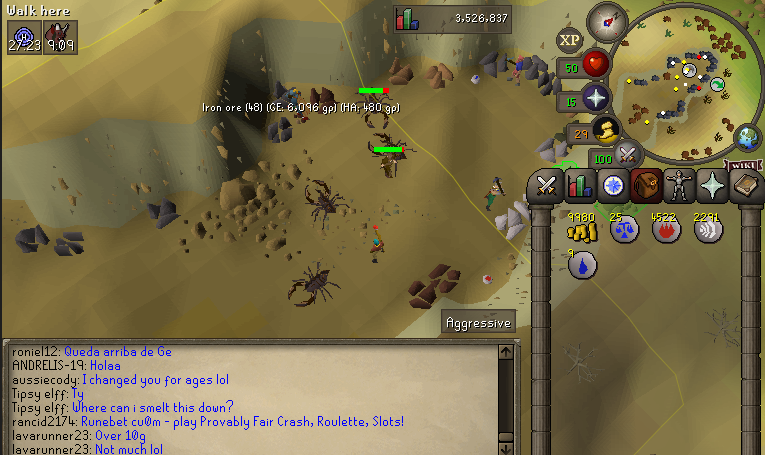depleted: (147, 196, 181, 231), (476, 46, 509, 82), (15, 220, 45, 259), (51, 228, 87, 259), (519, 49, 551, 83), (269, 80, 301, 112), (534, 70, 567, 97), (269, 113, 292, 147)
iron: (426, 256, 467, 297), (407, 277, 438, 312), (310, 85, 339, 116)
